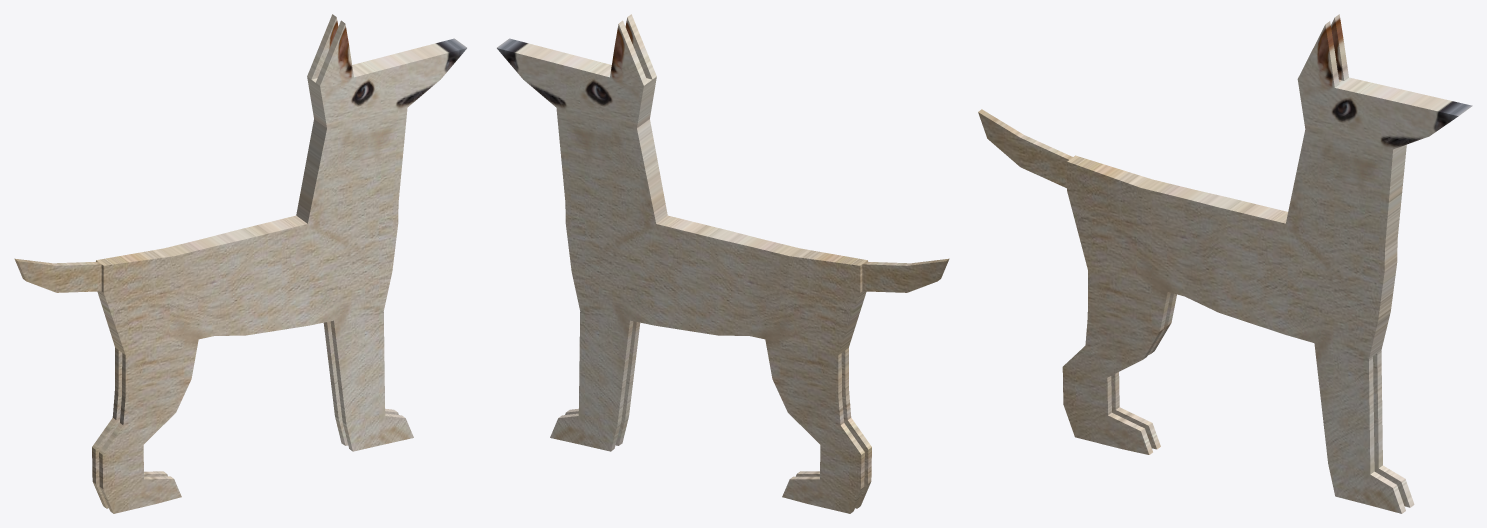
Rendered from Dog 1.fbx.
3 views of the same model, side by side, from view 1: azimuth 30°, elevation 25°; view 2: azimuth 150°, elevation 25°; view 3: azimuth 330°, elevation 25° (orthographic). The views are drawn at different scales.
Visible parts, largest first — view 1: Cube; view 2: Cube; view 3: Cube.
Part boxes in pixels (left/top/right/bottom): Cube: left=14, top=14, right=466, bottom=513; Cube: left=497, top=14, right=949, bottom=513; Cube: left=978, top=14, right=1472, bottom=513.
Bounding box in the file's own units: 1012 × 947 × 51.26.
